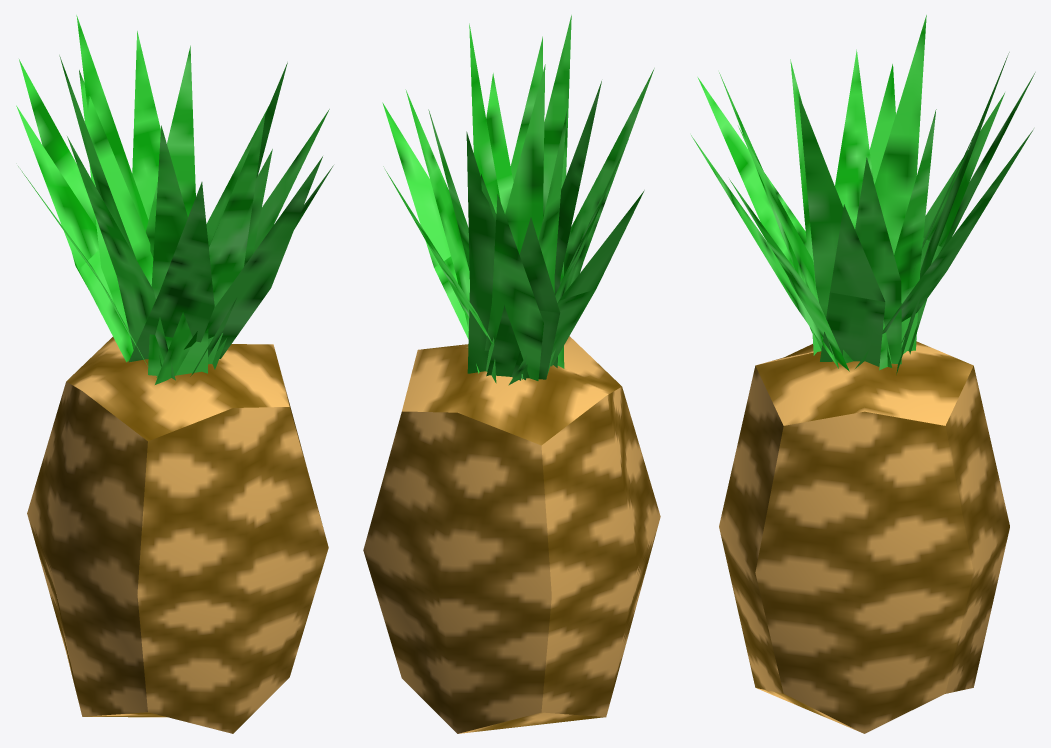
File: Pineapple002.FBX
The picture shows the model from 3 angles, left to right: view 1: azimuth 30°, elevation 25°; view 2: azimuth 150°, elevation 25°; view 3: azimuth 270°, elevation 25°; orthographic projection.
Visible parts, largest first — view 1: Box002; view 2: Box002; view 3: Box002.
Part boxes in pixels (left/top/right/bottom): Box002: left=16, top=15, right=333, bottom=733; Box002: left=363, top=15, right=660, bottom=733; Box002: left=691, top=15, right=1035, bottom=733.
Size of the model in its own units: 5.71 by 12.41 by 5.96.
